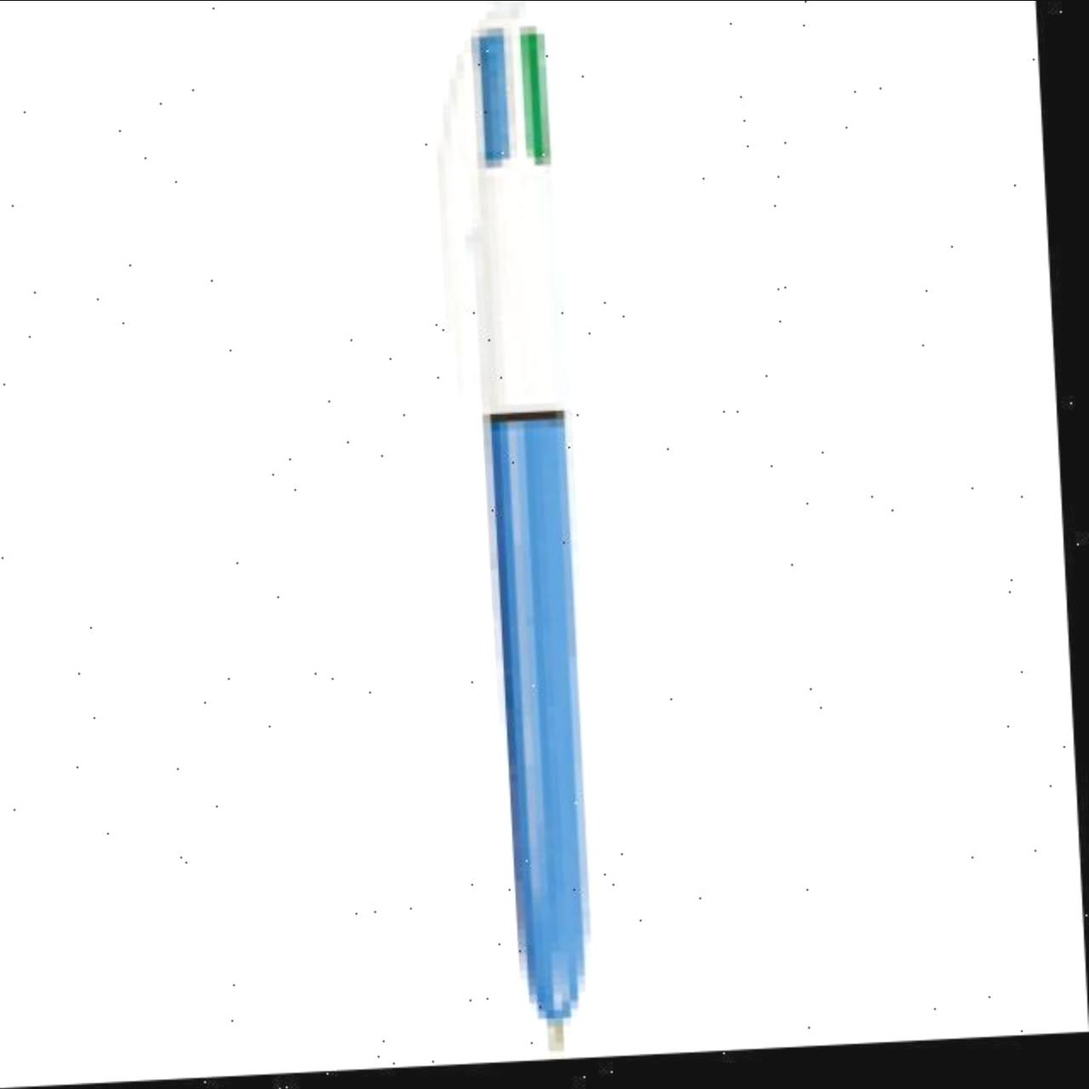pen: (432, 0, 599, 1070)
